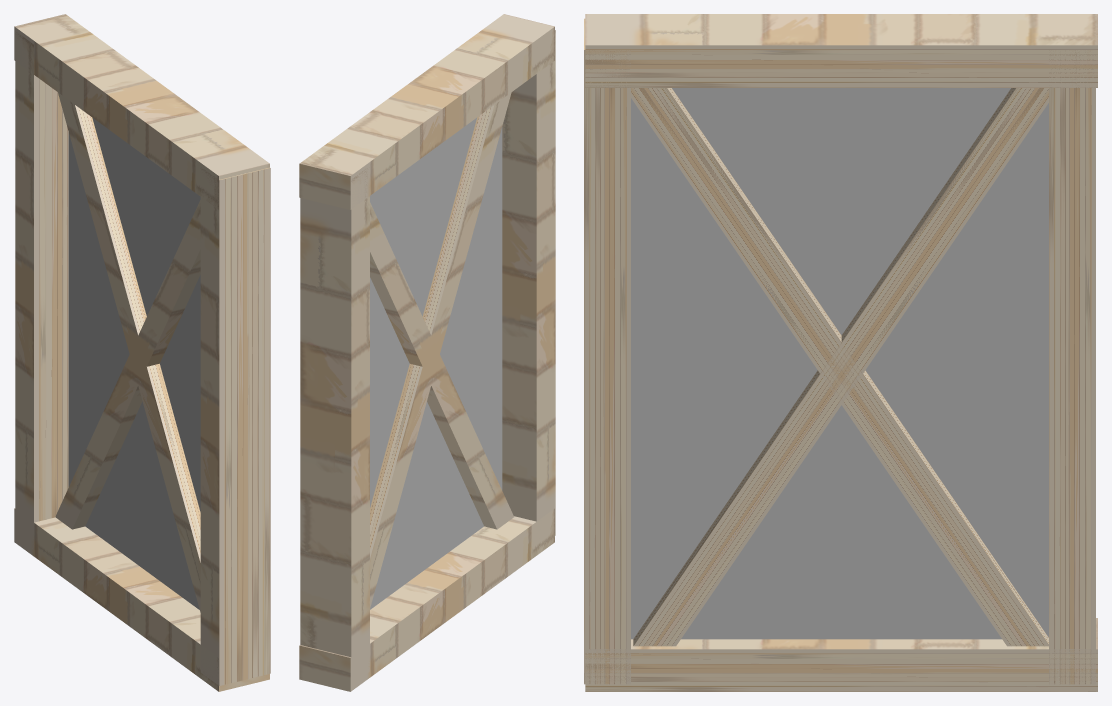
File: Door_d.fbx
The picture shows the model from 3 angles, left to right: view 1: azimuth 30°, elevation 25°; view 2: azimuth 150°, elevation 25°; view 3: azimuth 270°, elevation 25°; orthographic projection. The views are drawn at different scales.
Visible parts, largest first — view 1: pCube70; view 2: pCube70; view 3: pCube70.
Part boxes in pixels (x1,y1,x2,y2): pCube70: (14, 14, 270, 691); pCube70: (299, 14, 555, 691); pCube70: (584, 14, 1097, 691).
Bounding box in the file's own units: 0.3618 × 3.49 × 2.51.
